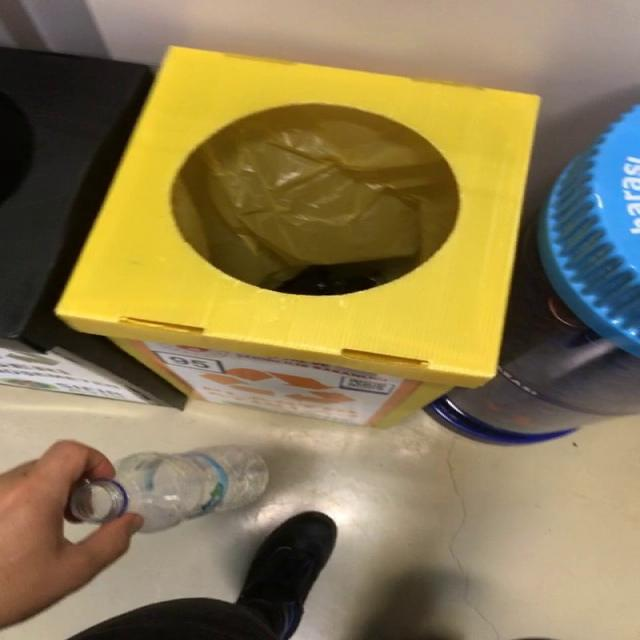plastic: (68, 447, 268, 532)
